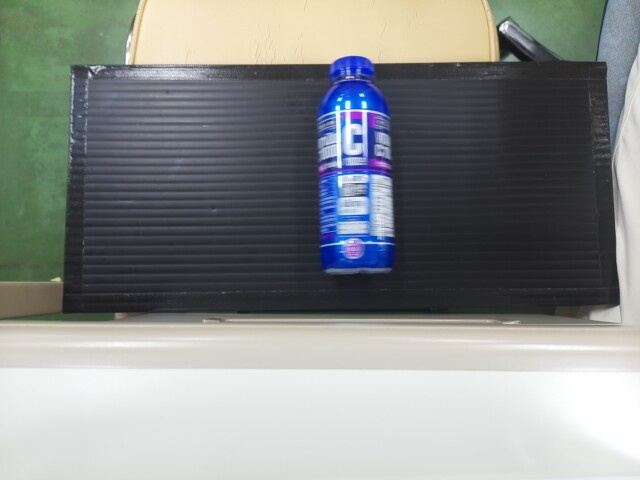plastic_bottle: (312, 60, 395, 276)
